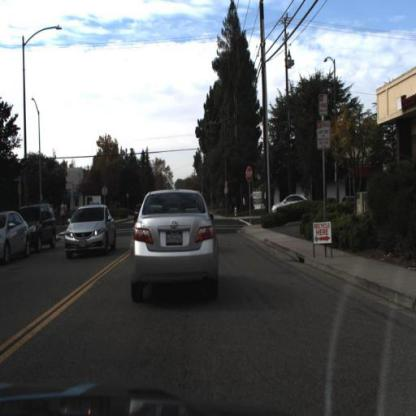car: (131, 186, 220, 295), (67, 196, 119, 261), (16, 204, 59, 253), (1, 207, 32, 265), (273, 192, 310, 220)
